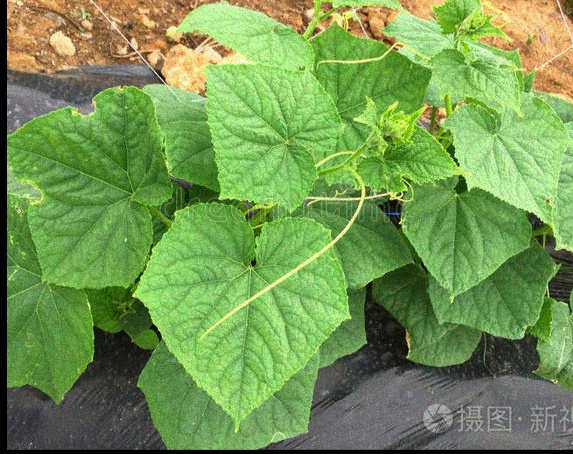cucumber_plant: (219, 13, 538, 191), (143, 190, 353, 449)
